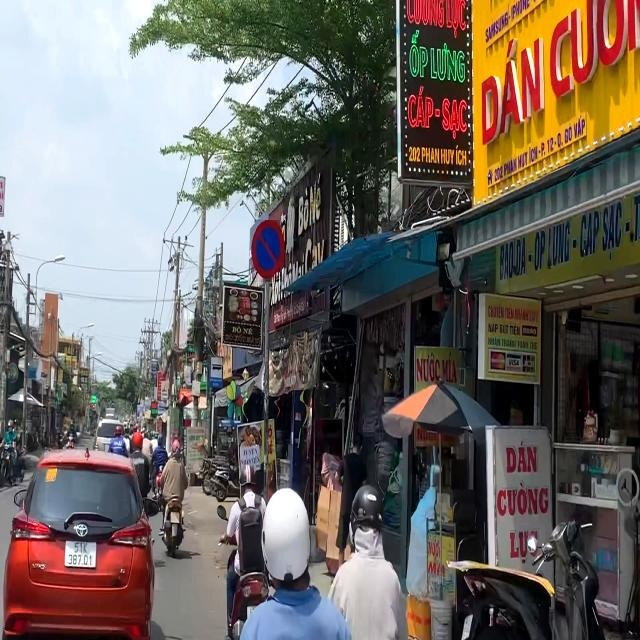bien_nguy_hiem: (251, 220, 285, 282)
